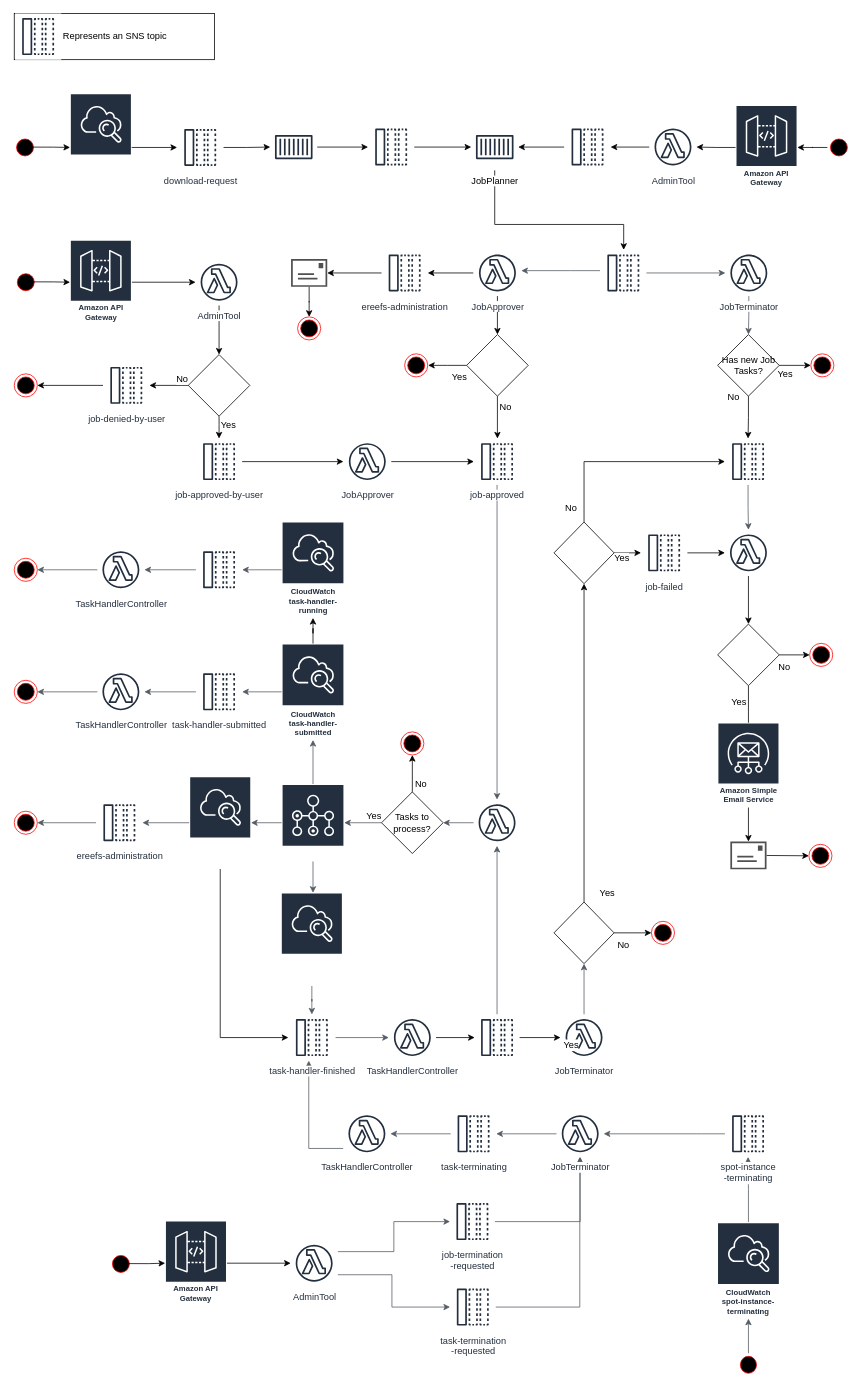
This 864x1390 diagram has some shape labels left out. Each missing label, with the centre of its shape:
Admin approved Job?: (x=218, y=385)
all-download-completed: (x=390, y=146)
Are all Tasks finished?: (x=583, y=932)
AWS Batch: (x=312, y=822)
CloudWatch download-manager (scheduled): (x=100, y=147)
CloudWatch task-handler-failed: (x=220, y=822)
CloudWatch task-handler-finished: (x=311, y=939)
Does ExtractionRequest exist for Job?: (x=748, y=654)
DownloadManager: (x=293, y=146)
extraction-request: (x=587, y=146)
ExtractionTool: (x=748, y=552)
Is at least one Task failed?: (x=583, y=552)
job-completed: (x=747, y=461)
job-created: (x=622, y=272)
JobScheduler: (x=497, y=822)
task-finished: (x=496, y=1037)
task-handler-running: (x=218, y=569)
Threshold reached?: (x=497, y=365)
